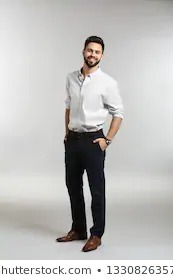F_dress pants: (64, 128, 110, 238)
F_shirt: (59, 63, 125, 134)
